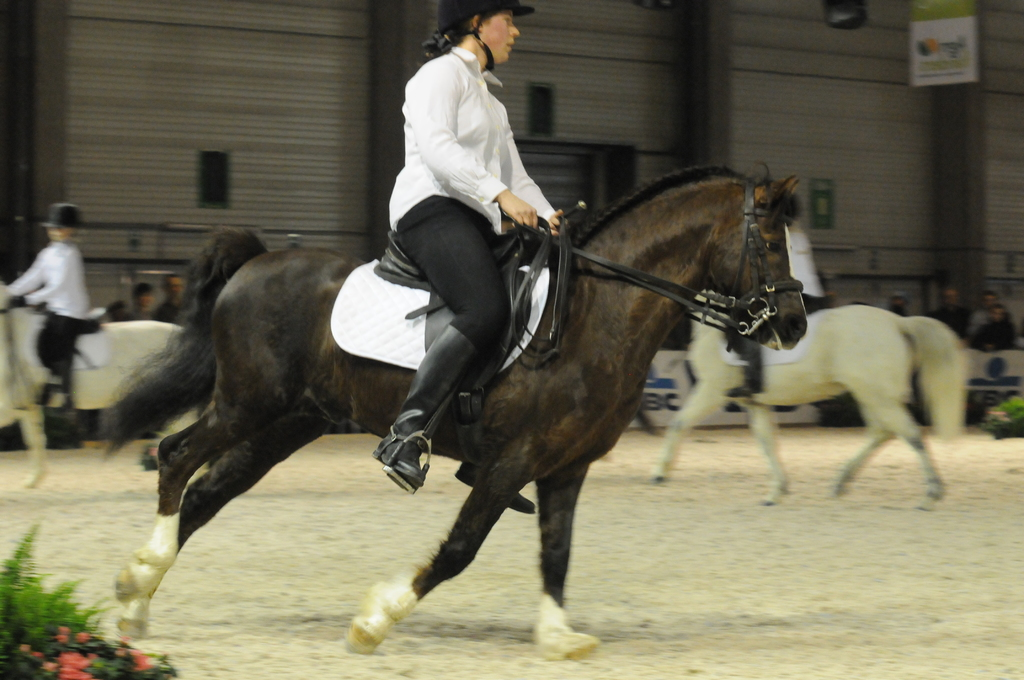horse: (95, 158, 808, 663)
